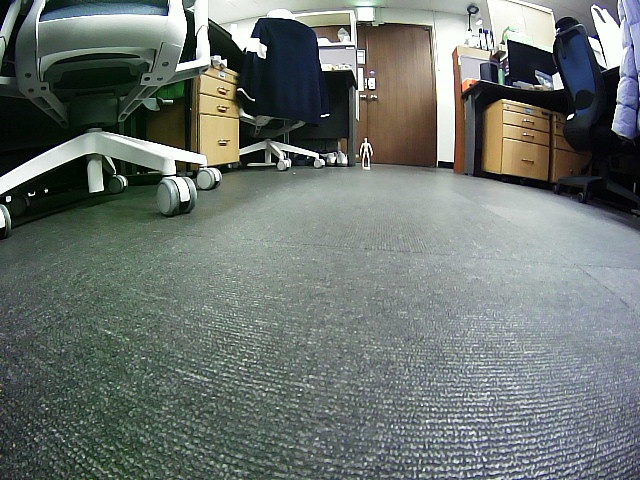person: (358, 137, 373, 167)
